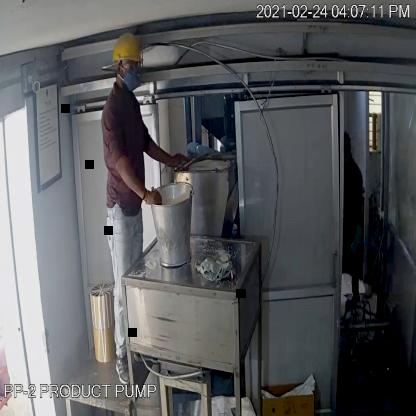helmet: (109, 27, 144, 74)
